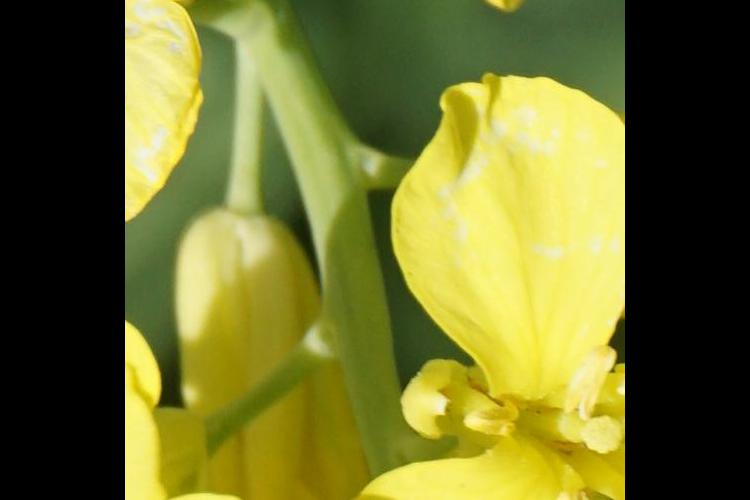yellow: (309, 66, 624, 500), (132, 1, 288, 193)
